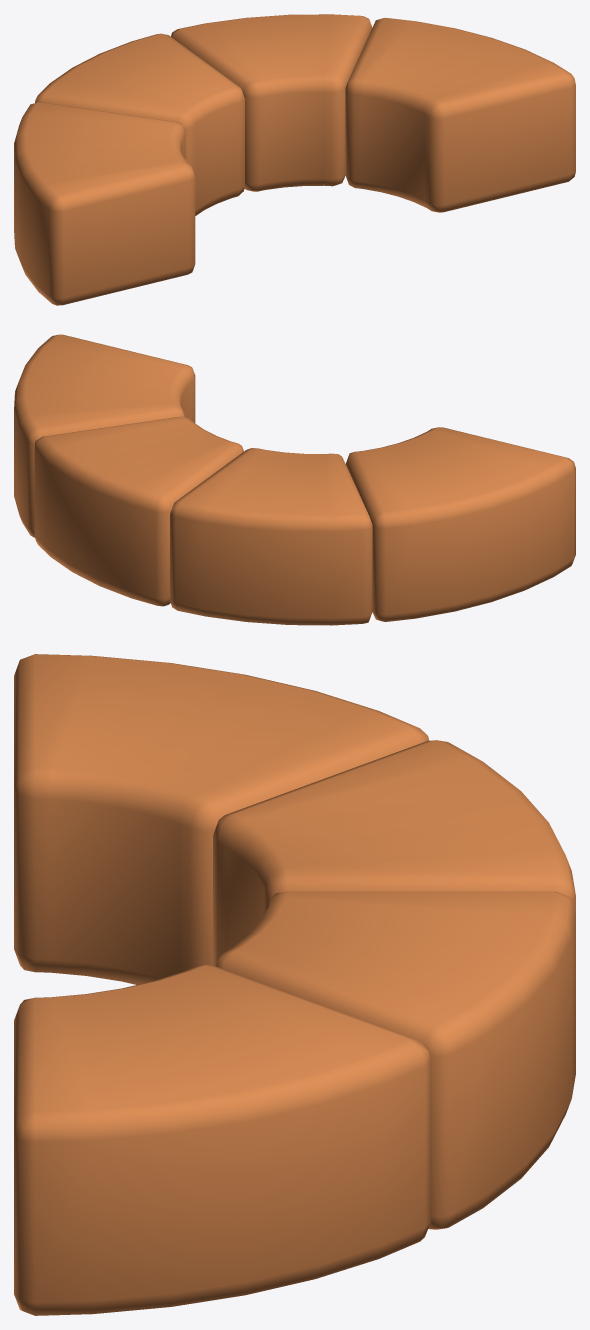
Rendered from MR_SOFA_0001_JOYSAM.glb.
The picture shows the model from 3 angles, top to bottom: view 1: azimuth 30°, elevation 25°; view 2: azimuth 150°, elevation 25°; view 3: azimuth 270°, elevation 25°; orthographic projection. The views are drawn at different scales.
Visible parts, largest first — view 1: JOYSAM_ROUNDSOFA_01; view 2: JOYSAM_ROUNDSOFA_01; view 3: JOYSAM_ROUNDSOFA_01.
Boxes of the visible parts, x1,y1,x2,y2 form: JOYSAM_ROUNDSOFA_01: (14,14,575,305); JOYSAM_ROUNDSOFA_01: (14,334,575,625); JOYSAM_ROUNDSOFA_01: (14,654,575,1315).
Bounding box in the file's own units: 2.5 × 0.5001 × 1.25.
